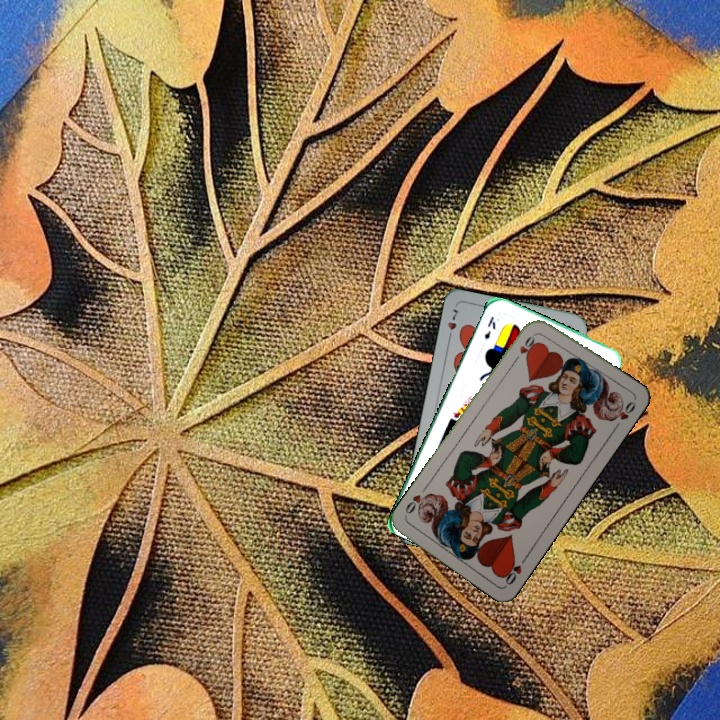EK: (480, 313, 498, 343)
H7: (444, 304, 460, 344)
HO: (499, 552, 530, 587), (510, 329, 540, 364)
